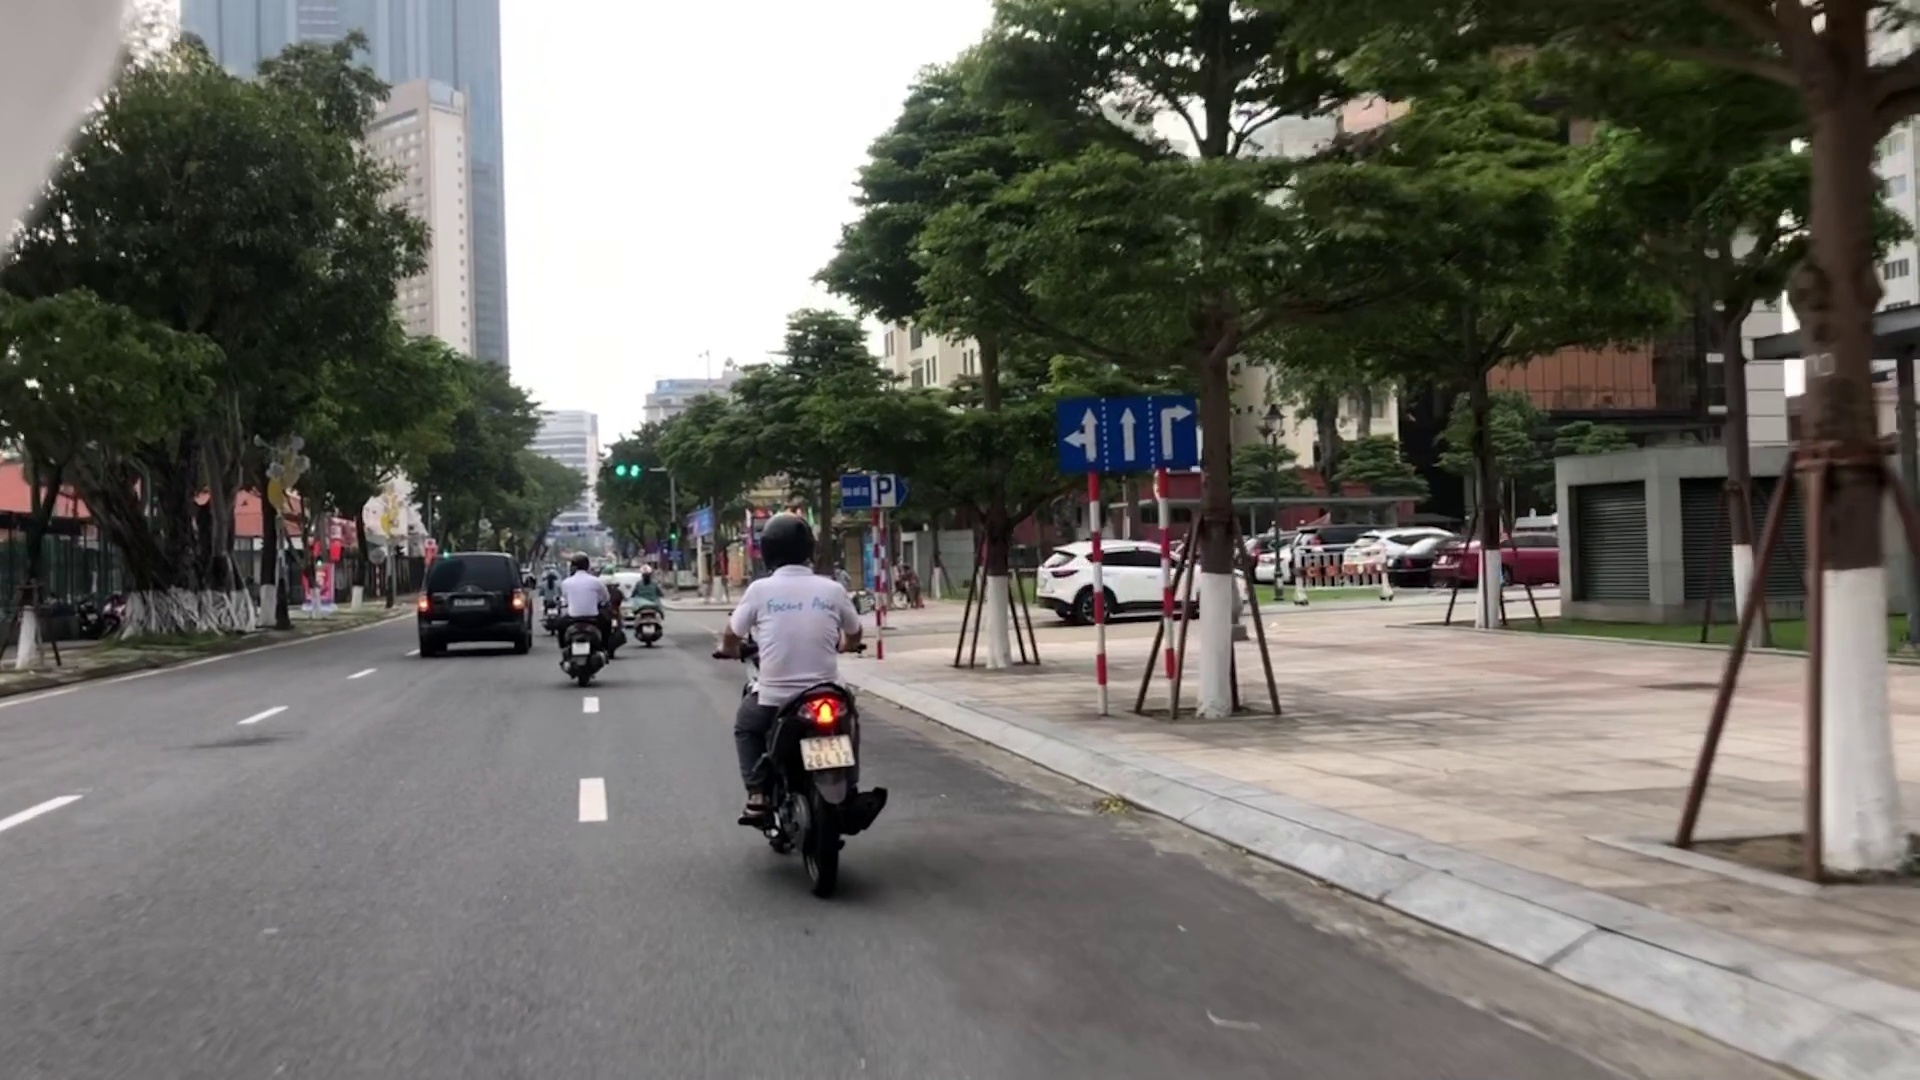Bien khac: (1055, 392, 1195, 469), (835, 471, 901, 512)
